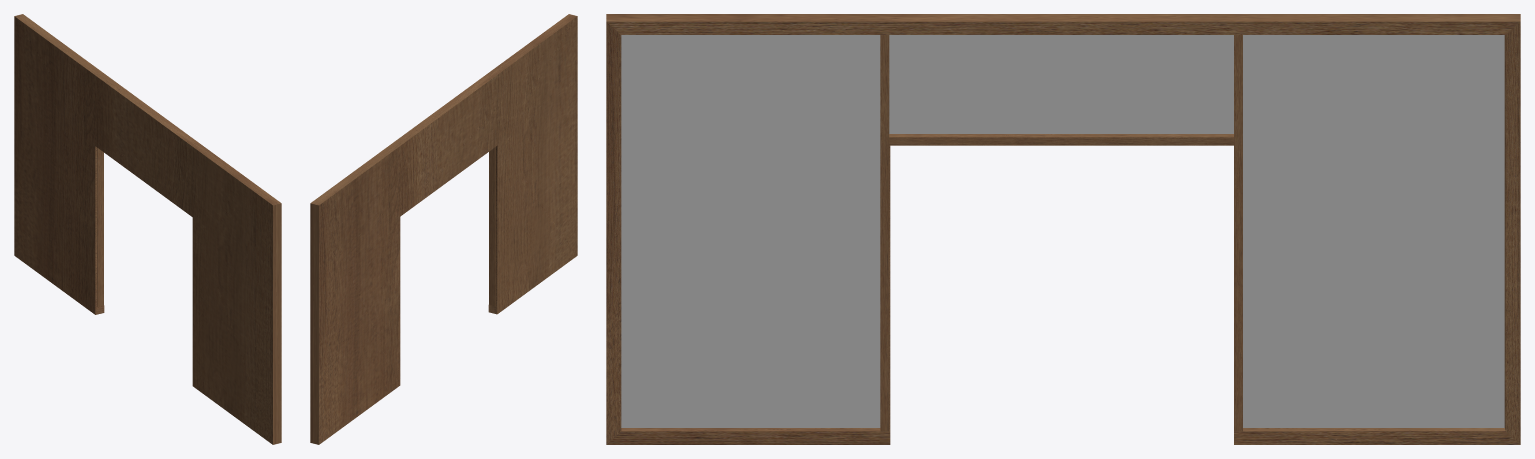
Rendered from Wall 3.FBX.
3 views of the same model, side by side, from view 1: azimuth 30°, elevation 25°; view 2: azimuth 150°, elevation 25°; view 3: azimuth 270°, elevation 25° (orthographic). The views are drawn at different scales.
Parts seen in each view (by area): view 1: wall 3; view 2: wall 3; view 3: wall 3.
Part boxes in pixels (<box>): wall 3: <box>14,14,281,444</box>; wall 3: <box>310,14,577,444</box>; wall 3: <box>606,14,1520,444</box>.
Size of the model in its own units: 10.19 by 268 by 524.
